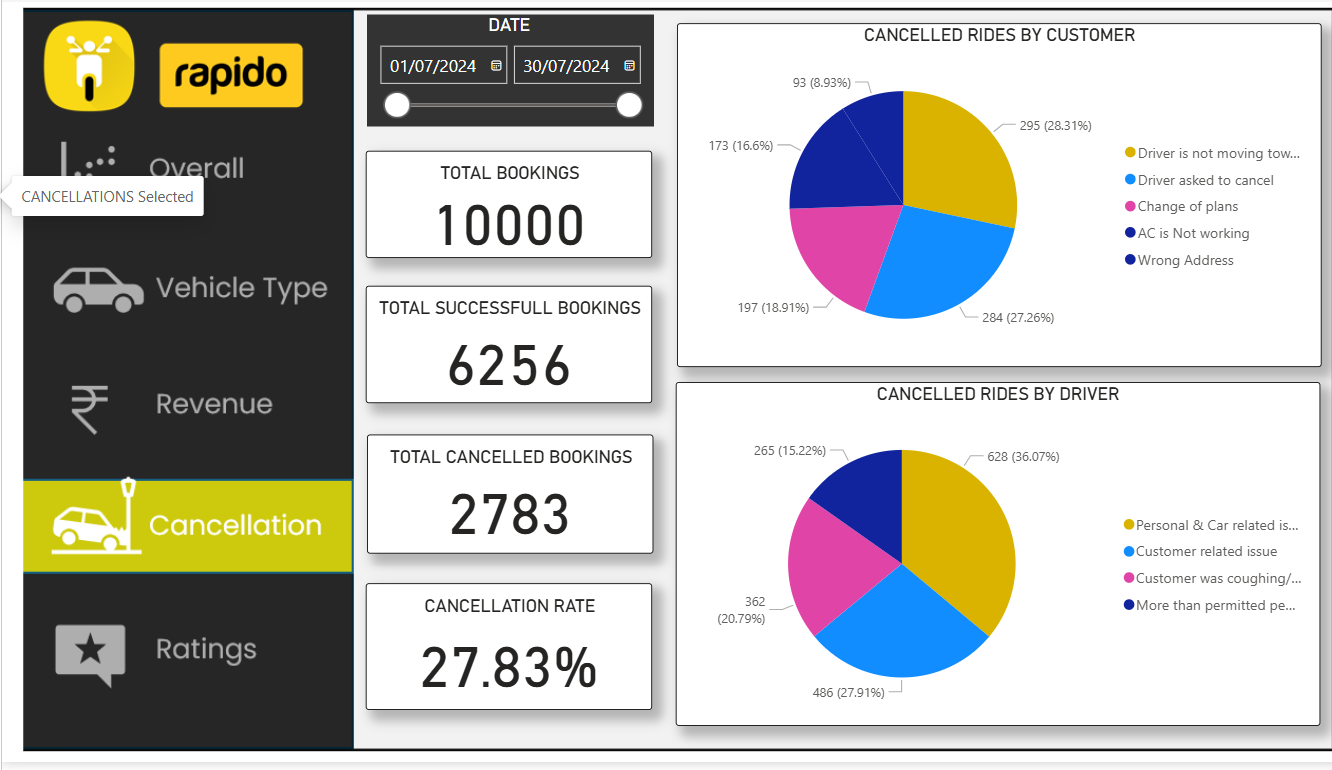

The page's visual inventory and layout, read from the dashboard file:
{"tool":"powerbi","page":{"name":"CANCELLATIONS","canvas":[1280,720],"ordinal":3},"visuals":[{"type":"actionButton","box":[20.5,581.5,310.1,88.1],"z":0},{"type":"pieChart","title":"CANCELLED RIDES BY CUSTOMER","fields":{"Category":["Bengaluru_Bookings_10k.Canceled_Rides_by_Customer"],"Y":["CountNonNull(Bengaluru_Bookings_10k.Canceled_Rides_by_Customer)"]},"box":[639.4,20.5,610.5,325.7],"z":1000},{"type":"pieChart","title":"CANCELLED RIDES BY DRIVER","fields":{"Category":["Bengaluru_Bookings_10k.Canceled_Rides_by_Driver"],"Y":["CountNonNull(Bengaluru_Bookings_10k.Canceled_Rides_by_Driver)"]},"box":[638.6,360,610,325.7],"z":2000},{"type":"slicer","title":"DATE","fields":{"Values":["Bengaluru_Bookings_10k.Date"]},"box":[345.7,11.4,271.4,105.7],"z":3000},{"type":"card","title":"TOTAL BOOKINGS","fields":{"Values":["Count(Bengaluru_Bookings_10k.Booking_ID)"]},"box":[344.3,141.4,271.4,101.4],"z":4000},{"type":"card","title":"TOTAL SUCCESSFULL BOOKINGS","fields":{"Values":["Count(Bengaluru_Bookings_10k.Booking_ID)"]},"box":[344.3,268.6,271.4,111.4],"z":5000},{"type":"card","title":"TOTAL CANCELLED BOOKINGS","fields":{"Values":["Count(Bengaluru_Bookings_10k.Booking_ID)"]},"box":[345.7,410,271.4,112.9],"z":6000},{"type":"card","title":"CANCELLATION RATE","fields":{"Values":["Bengaluru_Bookings_10k.CanceledPercentage"]},"box":[344.3,550,271.4,120],"z":7000}]}

Visuals, with their boxes in screenshot pixels (x1, y1, x2, y2), scaled from the page's 1280x720 canvas onto the 1332x770 screenshot:
actionButton: (21, 622, 344, 716)
"CANCELLED RIDES BY CUSTOMER" pieChart: (665, 22, 1301, 370)
"CANCELLED RIDES BY DRIVER" pieChart: (665, 385, 1299, 733)
"DATE" slicer: (360, 12, 642, 125)
"TOTAL BOOKINGS" card: (358, 151, 641, 260)
"TOTAL SUCCESSFULL BOOKINGS" card: (358, 287, 641, 406)
"TOTAL CANCELLED BOOKINGS" card: (360, 438, 642, 559)
"CANCELLATION RATE" card: (358, 588, 641, 717)
